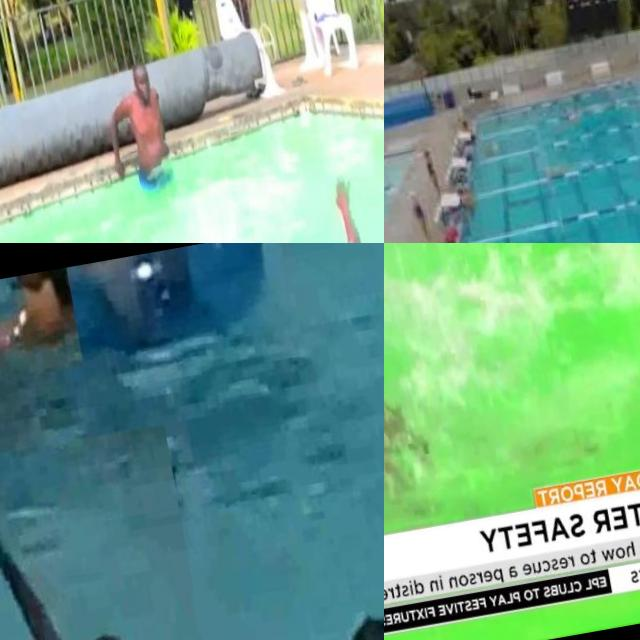drowning: (0, 423, 236, 640), (266, 163, 384, 243)
out of water: (407, 187, 427, 235), (423, 154, 442, 192)
swimming: (78, 41, 201, 216), (0, 267, 83, 391), (540, 158, 576, 182)
